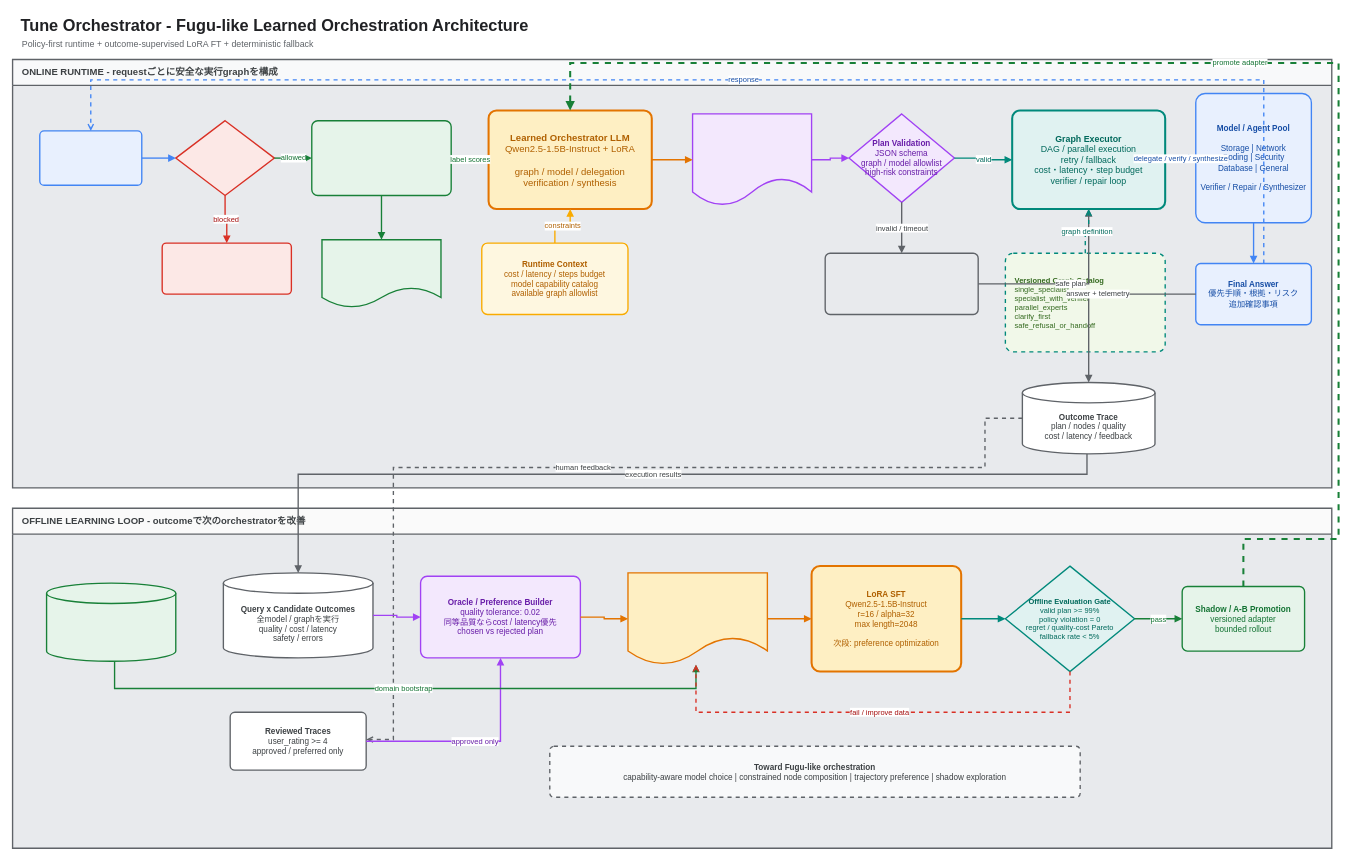
Some shapes in this 1357 by 860 pixel diagram are drawn without their labels. Here are the shapes that lost their labels. From the top down, the centre of each, then its label:
point (90, 158): User / API 日本語リクエスト
point (225, 158): Hard Policy Gate 破壊・認証情報窃取 権限 / scope
point (381, 158): Existing FT Classifier Qwen2.5-0.5B + LoRA 6 domain probabilities
point (752, 159): Structured Plan JSON graph_id selected_labels delegations[] synthesis_strategy
point (226, 268): Safe Response / Handoff 禁止・高リスク要求を停止
point (381, 273): Routing Signals Storage / Network / Coding Security / Database / General
point (901, 283): Deterministic Fallback confidence / margin / risk rules fallback_reasonをtraceへ保存
point (111, 622): Japanese OSS Dataset prd/artifacts/ 4,800 records 6-domain supervision
point (697, 618): FT Dataset SFT train / dev JSONL preferences JSONL assistant plan tokens only
